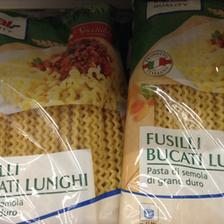Nudeln: (0, 9, 126, 223), (122, 1, 223, 223)
